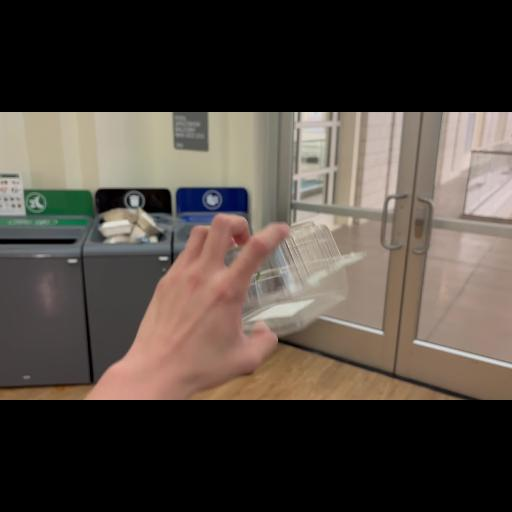small_plastic_container: (198, 213, 362, 337)
